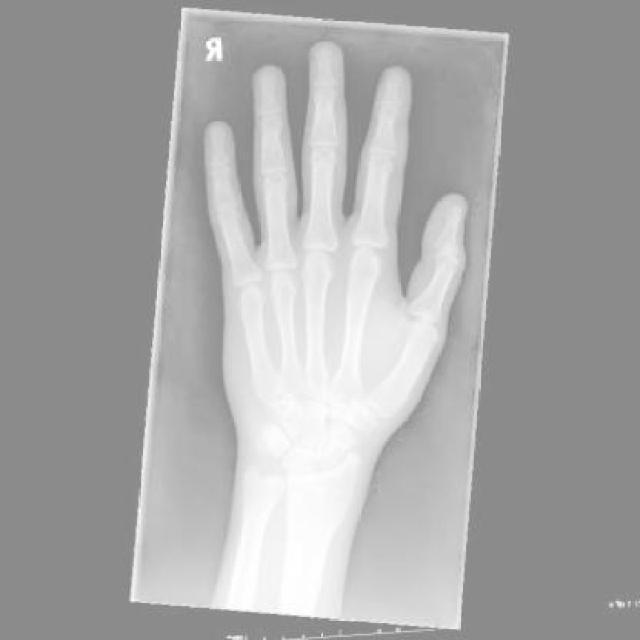Fracture: (257, 429, 283, 457)
